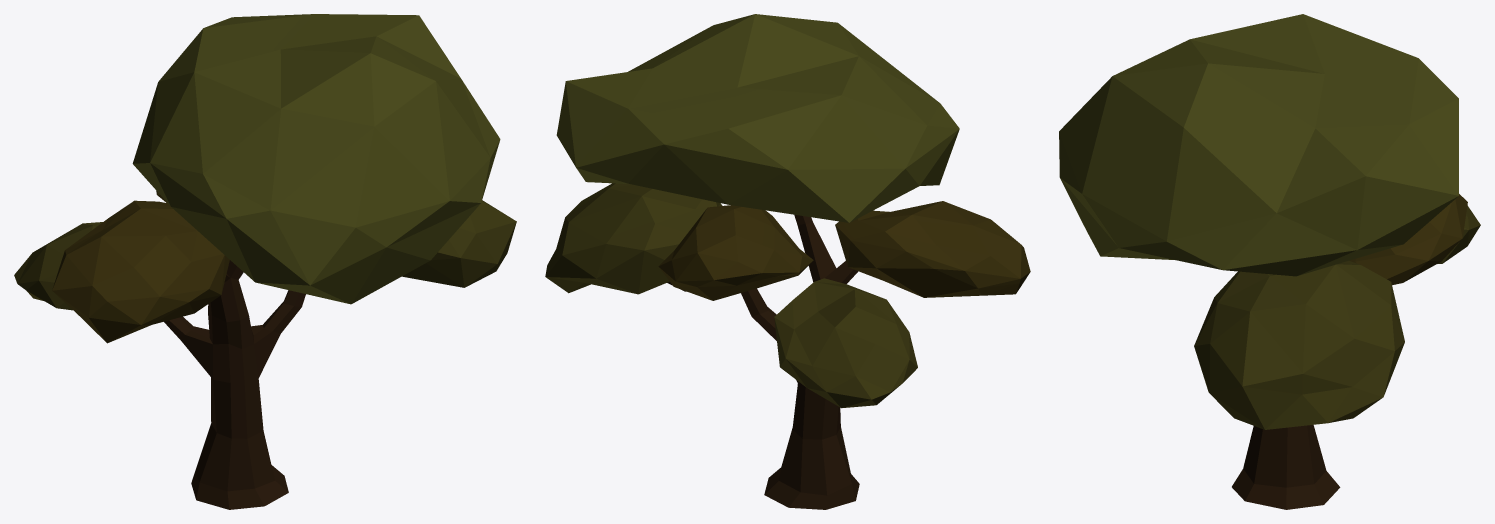
Rendered from tree.obj.
The picture shows the model from 3 angles, left to right: view 1: azimuth 30°, elevation 25°; view 2: azimuth 150°, elevation 25°; view 3: azimuth 270°, elevation 25°; orthographic projection. The views are drawn at different scales.
Visible parts, largest first — view 1: Icosphere.002_Icosphere.003; view 2: Icosphere.002_Icosphere.003; view 3: Icosphere.002_Icosphere.003.
Part boxes in pixels (left/top/right/bottom): Icosphere.002_Icosphere.003: left=14, top=14, right=516, bottom=509; Icosphere.002_Icosphere.003: left=545, top=14, right=1030, bottom=509; Icosphere.002_Icosphere.003: left=1059, top=14, right=1480, bottom=509.
Size of the model in its own units: 12 by 10.99 by 8.84.
